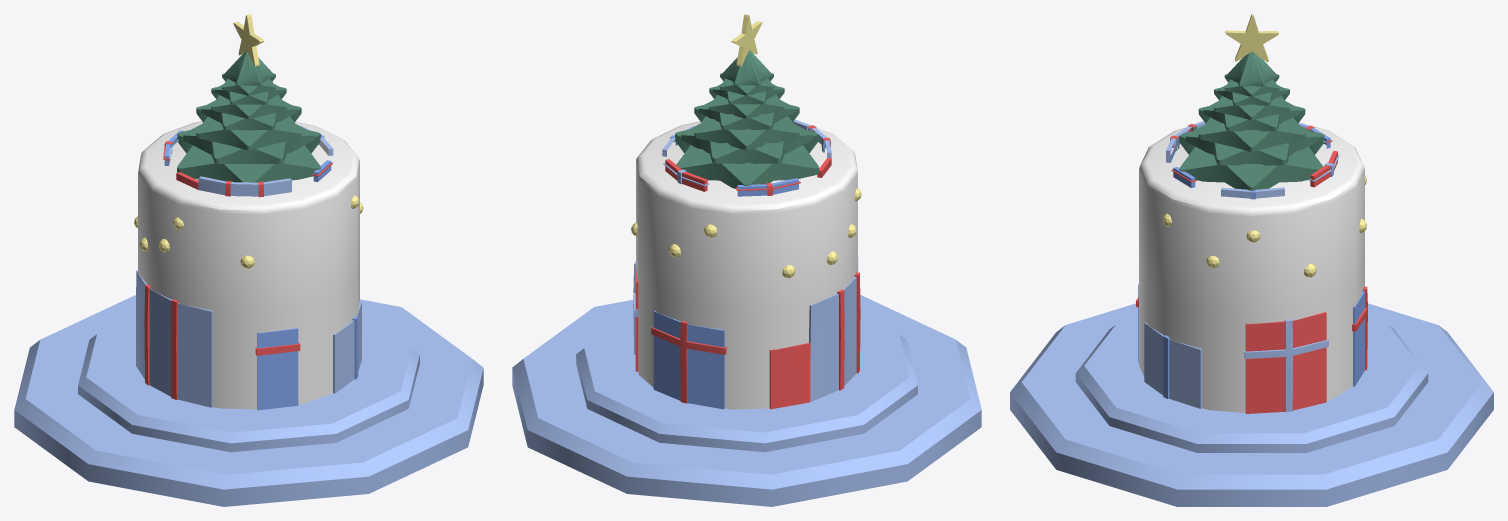
The model's file is bonus.fbx.
3 views of the same model, side by side, from view 1: azimuth 30°, elevation 25°; view 2: azimuth 150°, elevation 25°; view 3: azimuth 270°, elevation 25° (orthographic).
Visible parts, largest first — view 1: Cylinder, Cylinder.003, Cylinder.001, Cylinder.010, Cylinder.005, Cylinder.002, Cylinder.009; view 2: Cylinder.003, Cylinder, Cylinder.001, Cylinder.010, Cylinder.005, Cylinder.002, Cylinder.009; view 3: Cylinder, Cylinder.003, Cylinder.001, Cylinder.005, Cylinder.010, Cylinder.002, Cylinder.009.
Boxes of the visible parts, x1,y1,x2,y2 form: Cylinder: [138, 121, 359, 409]; Cylinder.003: [14, 295, 483, 506]; Cylinder.001: [78, 312, 419, 452]; Cylinder.010: [136, 270, 361, 410]; Cylinder.005: [177, 50, 320, 182]; Cylinder.002: [163, 125, 333, 197]; Cylinder.009: [233, 14, 264, 66]; Cylinder.003: [512, 295, 981, 506]; Cylinder: [636, 121, 857, 409]; Cylinder.001: [576, 312, 917, 452]; Cylinder.010: [633, 257, 860, 409]; Cylinder.005: [675, 50, 818, 188]; Cylinder.002: [662, 119, 831, 196]; Cylinder.009: [731, 14, 762, 66]; Cylinder: [1139, 122, 1364, 412]; Cylinder.003: [1010, 303, 1493, 506]; Cylinder.001: [1075, 317, 1428, 452]; Cylinder.005: [1179, 51, 1324, 190]; Cylinder.010: [1136, 284, 1367, 413]; Cylinder.002: [1166, 121, 1339, 199]; Cylinder.009: [1225, 14, 1278, 62].
Bounding box in the file's own units: 181 × 171 × 190.
Materials: 1 (1 with a texture image).
